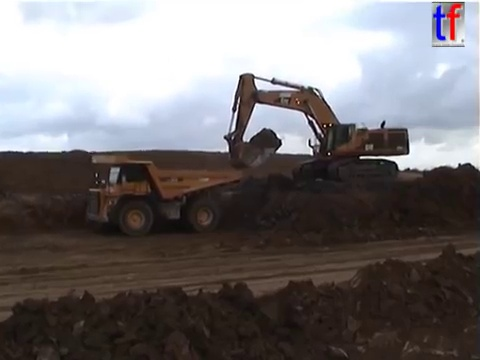excavator: (220, 71, 413, 184)
truck: (81, 151, 244, 237)
